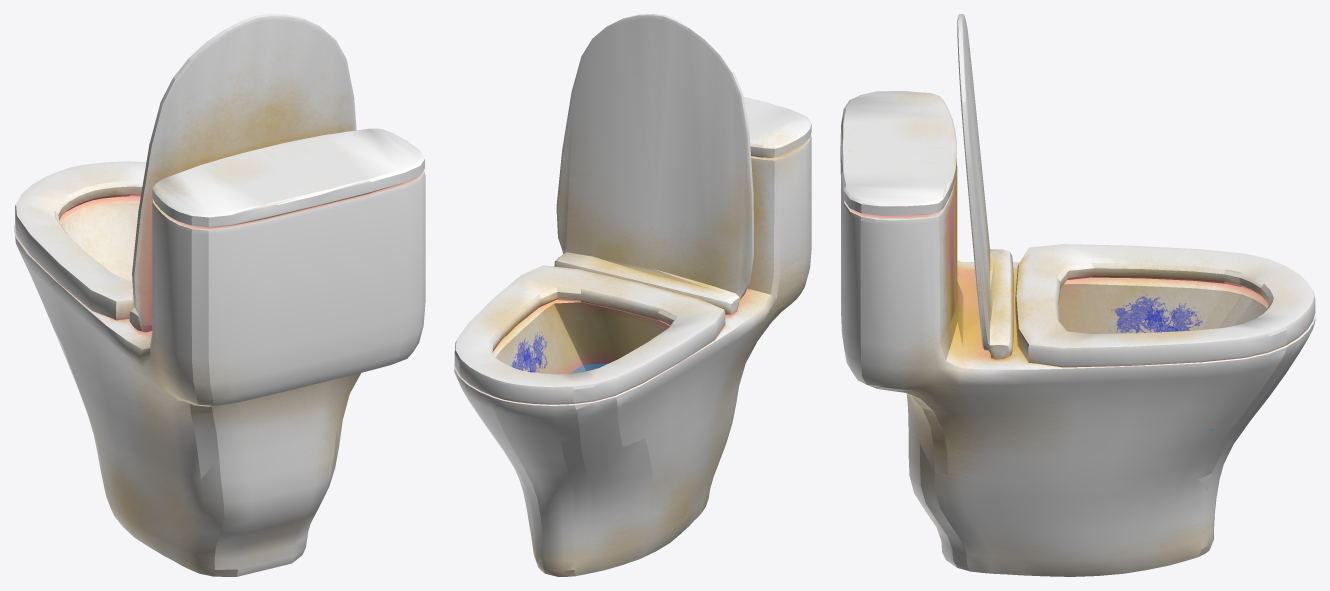
The model's file is Toilet.gltf.
3 views of the same model, side by side, from view 1: azimuth 30°, elevation 25°; view 2: azimuth 150°, elevation 25°; view 3: azimuth 270°, elevation 25° (orthographic). The views are drawn at different scales.
Parts seen in each view (by area): view 1: Int_Apt_01_Wall_01__14_1.004; view 2: Int_Apt_01_Wall_01__14_1.004, Plane; view 3: Int_Apt_01_Wall_01__14_1.004, Plane.003.
Part boxes in pixels (x1,y1,x2,y2): Int_Apt_01_Wall_01__14_1.004: [14, 14, 425, 576]; Int_Apt_01_Wall_01__14_1.004: [454, 14, 811, 576]; Plane: [511, 333, 546, 372]; Int_Apt_01_Wall_01__14_1.004: [840, 14, 1315, 576]; Plane.003: [1111, 294, 1202, 333].
Size of the model in its own units: 0.6892 by 1.45 by 1.19.
